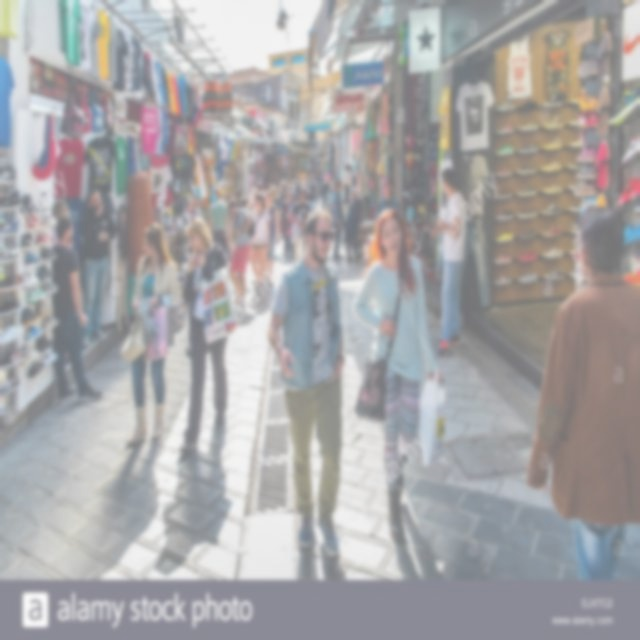pessoa: (526, 204, 640, 582), (350, 204, 450, 544), (266, 206, 347, 560), (88, 418, 232, 584), (178, 213, 238, 454), (118, 221, 180, 446), (51, 215, 103, 404), (429, 165, 467, 357), (76, 184, 118, 349), (224, 196, 256, 308), (248, 191, 272, 296), (44, 193, 76, 257), (342, 192, 371, 262), (262, 189, 282, 289), (291, 187, 311, 264), (374, 180, 402, 233), (176, 192, 199, 256), (207, 193, 230, 253), (330, 178, 346, 262), (232, 180, 268, 216), (277, 189, 292, 253), (278, 188, 292, 254), (342, 162, 358, 218), (287, 176, 312, 202), (306, 174, 318, 214), (268, 178, 288, 198), (321, 178, 330, 212), (270, 186, 280, 212), (314, 178, 324, 203), (279, 183, 289, 203), (240, 196, 248, 209)
